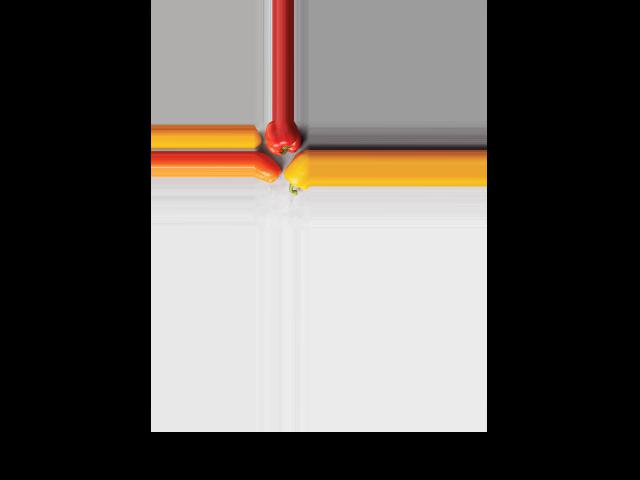bell_pepper: (264, 121, 302, 155)
